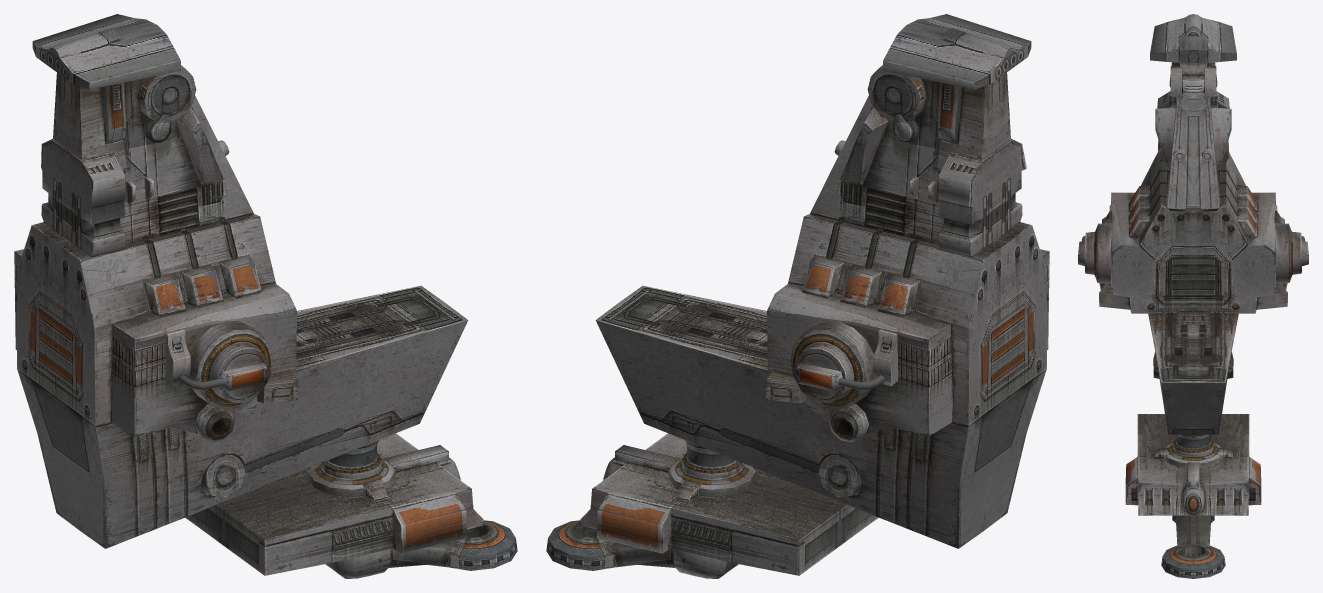
The model's file is Small_s01_p02.FBX.
The picture shows the model from 3 angles, left to right: view 1: azimuth 30°, elevation 25°; view 2: azimuth 150°, elevation 25°; view 3: azimuth 270°, elevation 25°; orthographic projection. The views are drawn at different scales.
Parts seen in each view (by area): view 1: Small_s01_p02; view 2: Small_s01_p02; view 3: Small_s01_p02.
Boxes of the visible parts, x1=… form: Small_s01_p02: x1=14, y1=14, x2=517, y2=578; Small_s01_p02: x1=546, y1=14, x2=1049, y2=578; Small_s01_p02: x1=1078, y1=14, x2=1308, y2=578.
Size of the model in its own units: 18.03 by 23.31 by 11.54.
